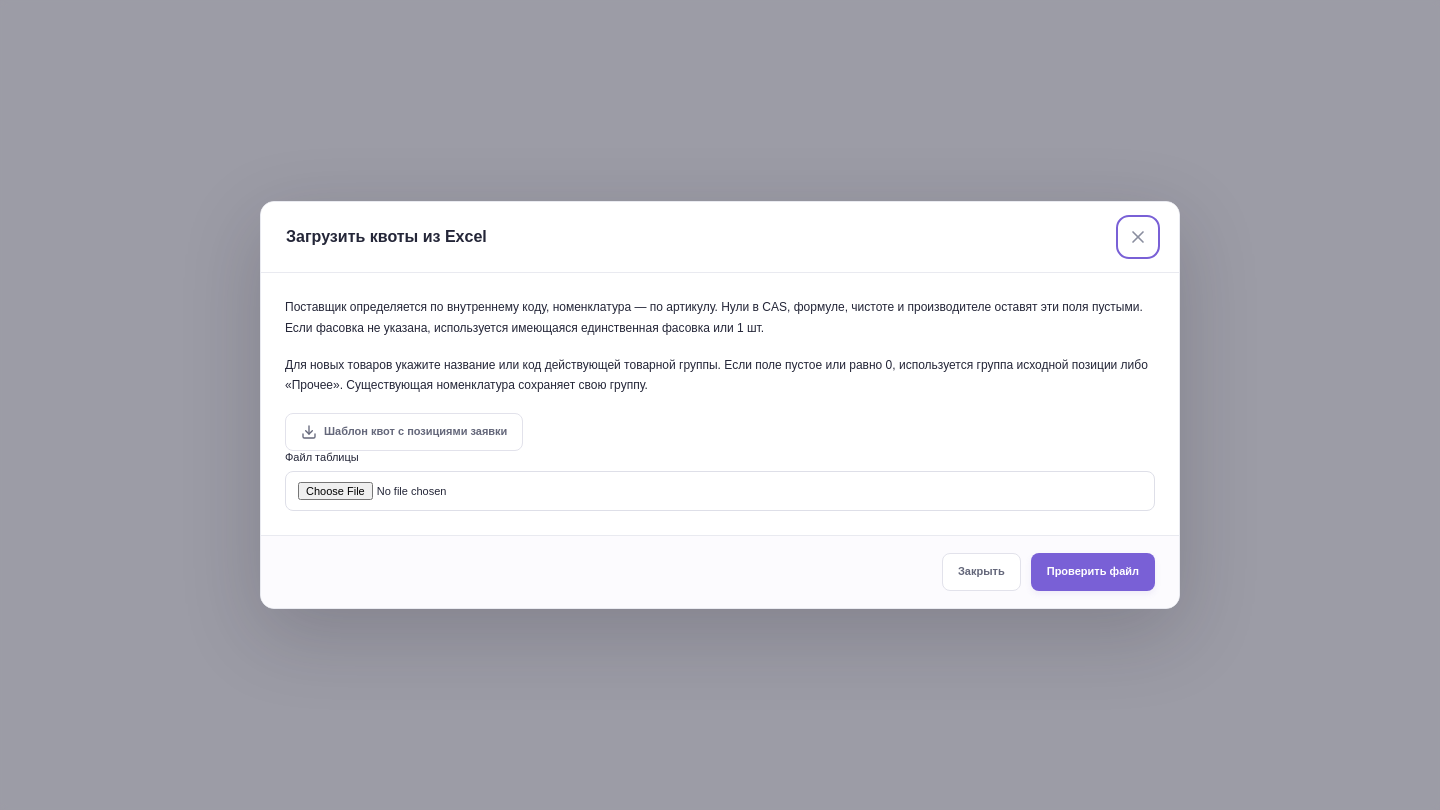
it: shows the actual imported count after confirmation
Earlier steps of the test are not shown.
Submit the form named "Файл таблицы", box [261,273,1179,535]
(page scrolled)
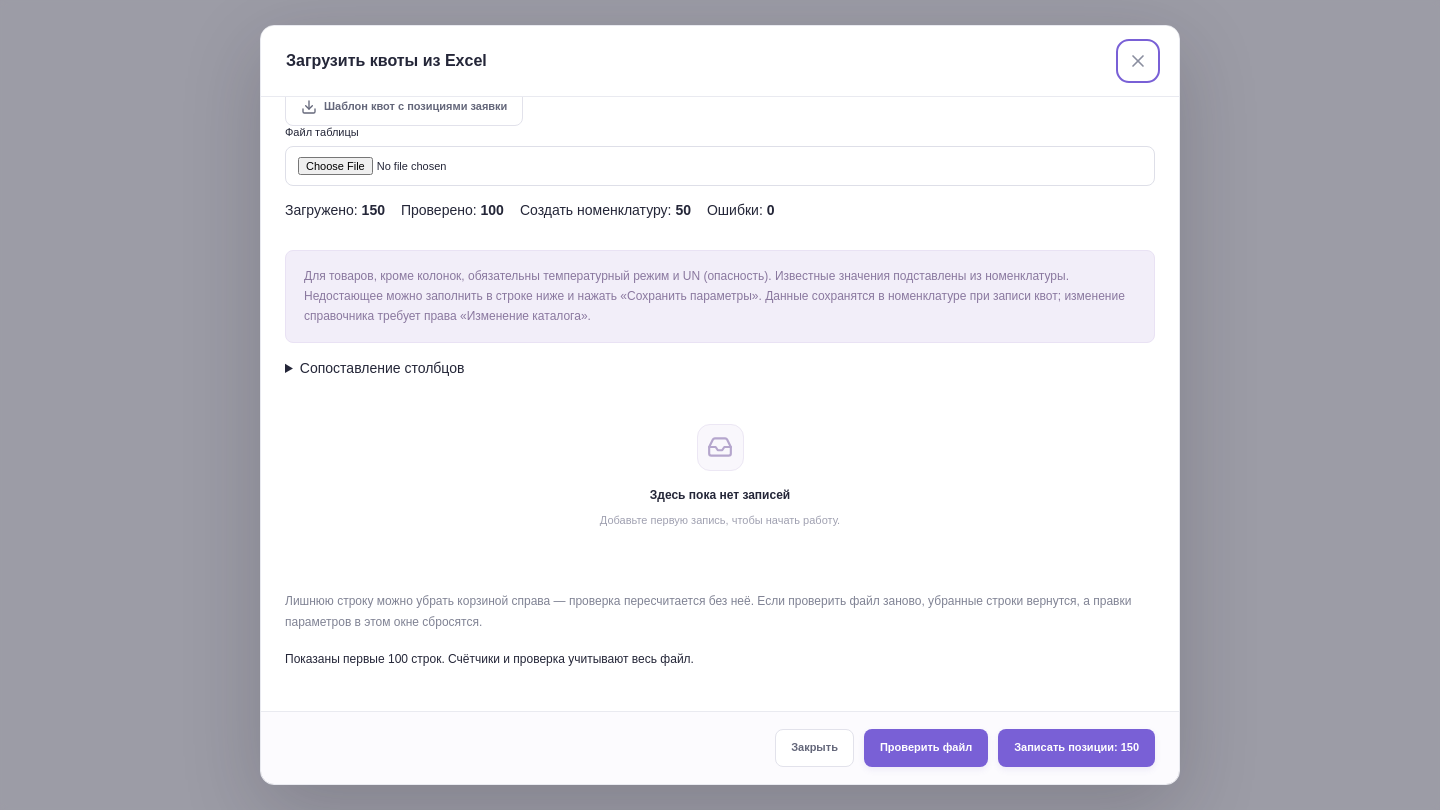
Click the button "Записать позиции: 150" at [1077, 748], box [998,729,1155,767]
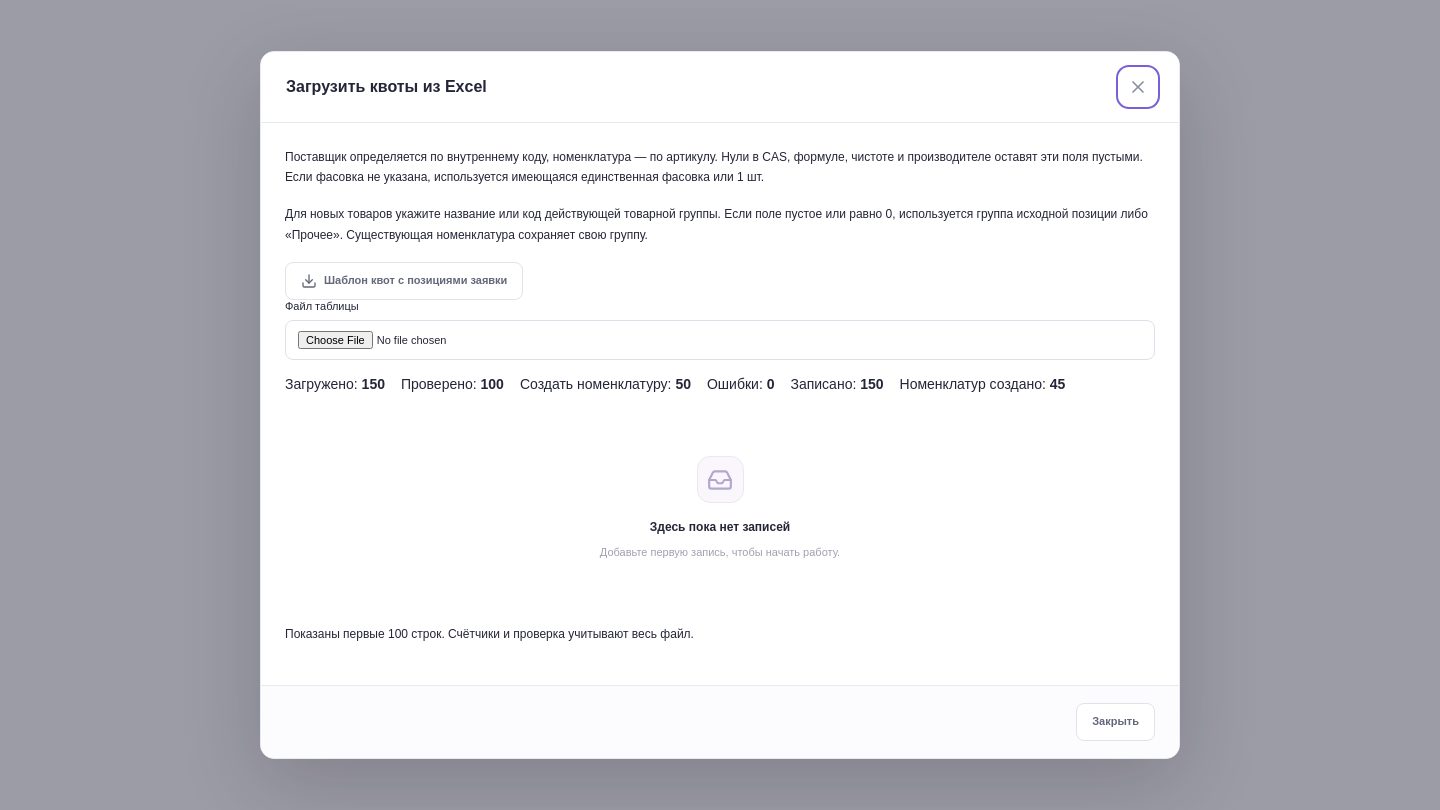
Check: the message shows "Записано: 150", box [285,376,1065,392]
Check: the message shows "Номенклатур создано: 45", box [285,376,1065,392]
